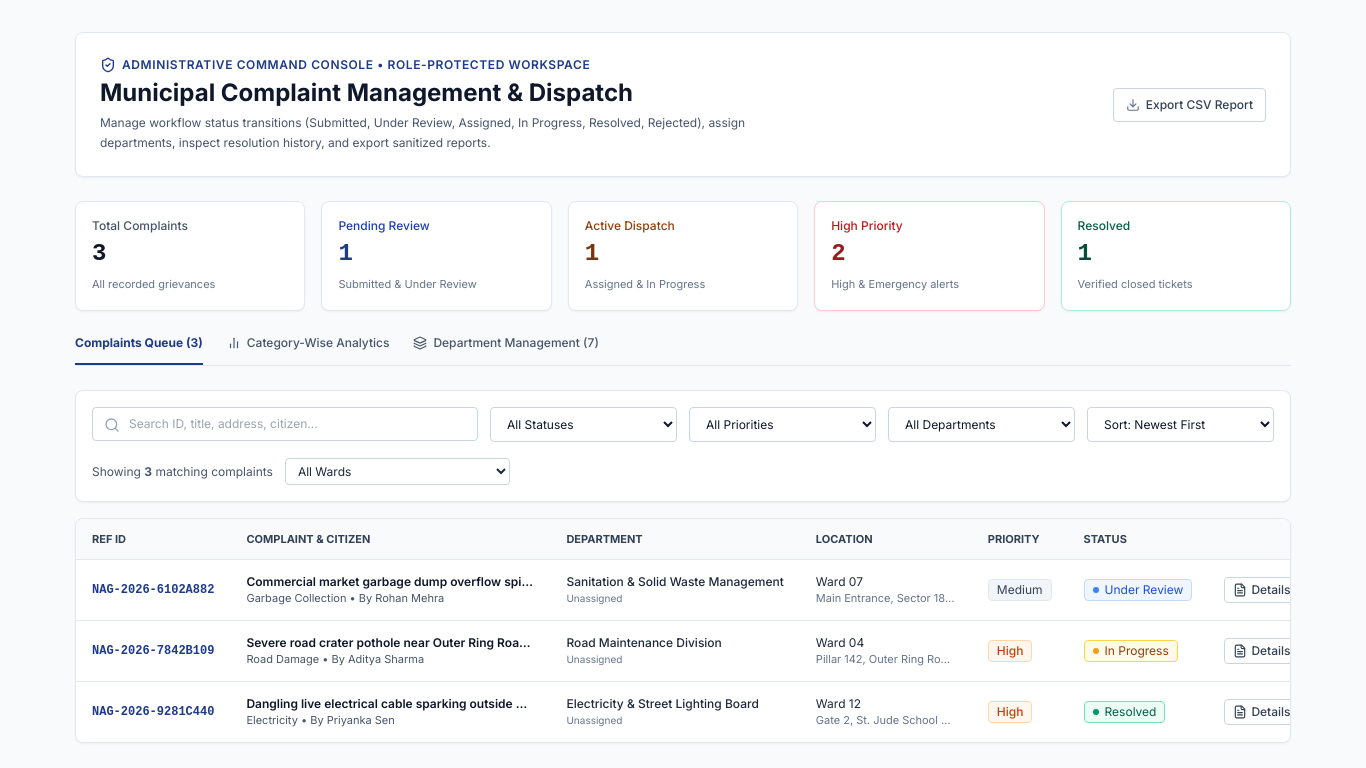
it: UI Components, Accessibility & Role Protection › AdminDashboard displays High-Priority metric, search/filtering, and details modal when authorized
The width and height of the screenshot is (1366, 768).
Expected: the text "Total Complaints" is shown, [92,218,188,233]
Expected: the text "High Priority" is shown, [831,218,903,233]
Type "9281C440" into the field named "Search complaints".
click(285, 424); type("9281C440")  # box [92,407,478,441]
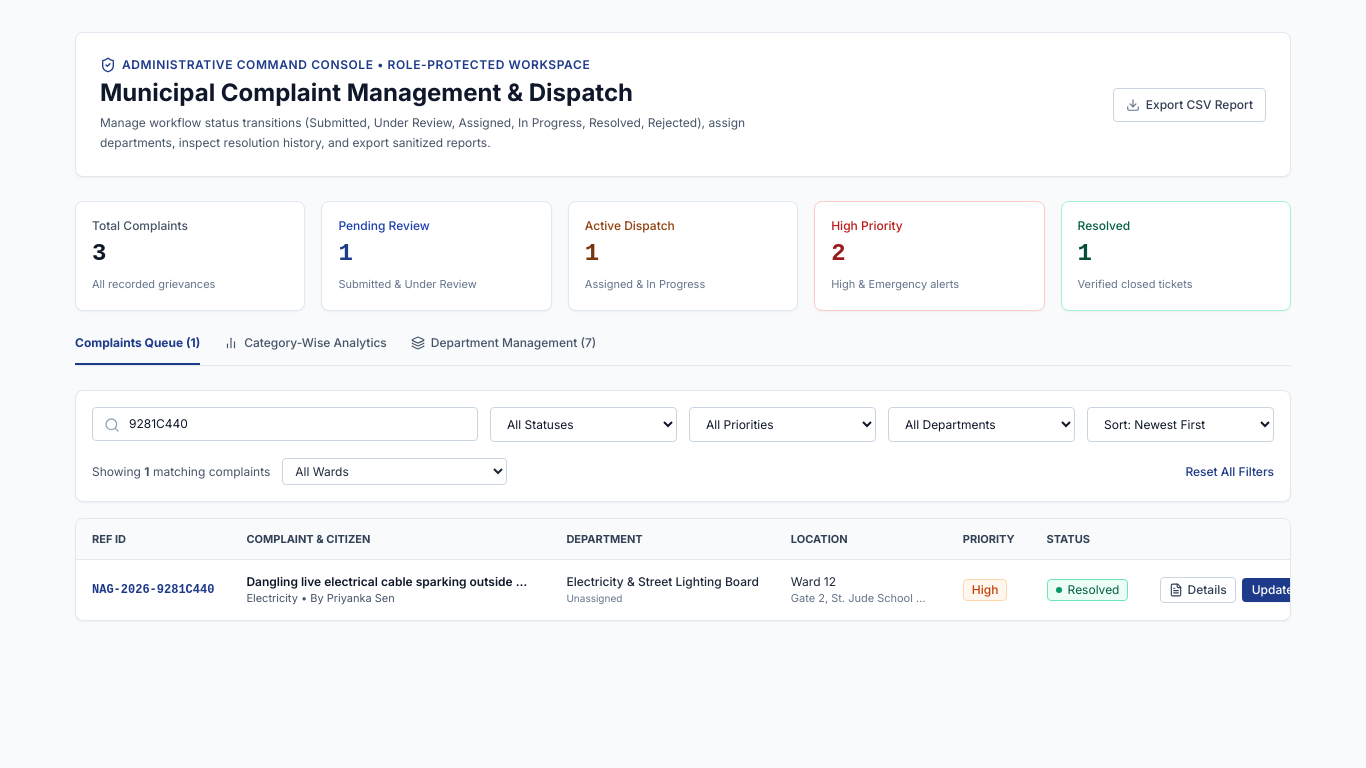
Result: the text "Showing 1 matching complaints" is shown at [92,464,270,480]
